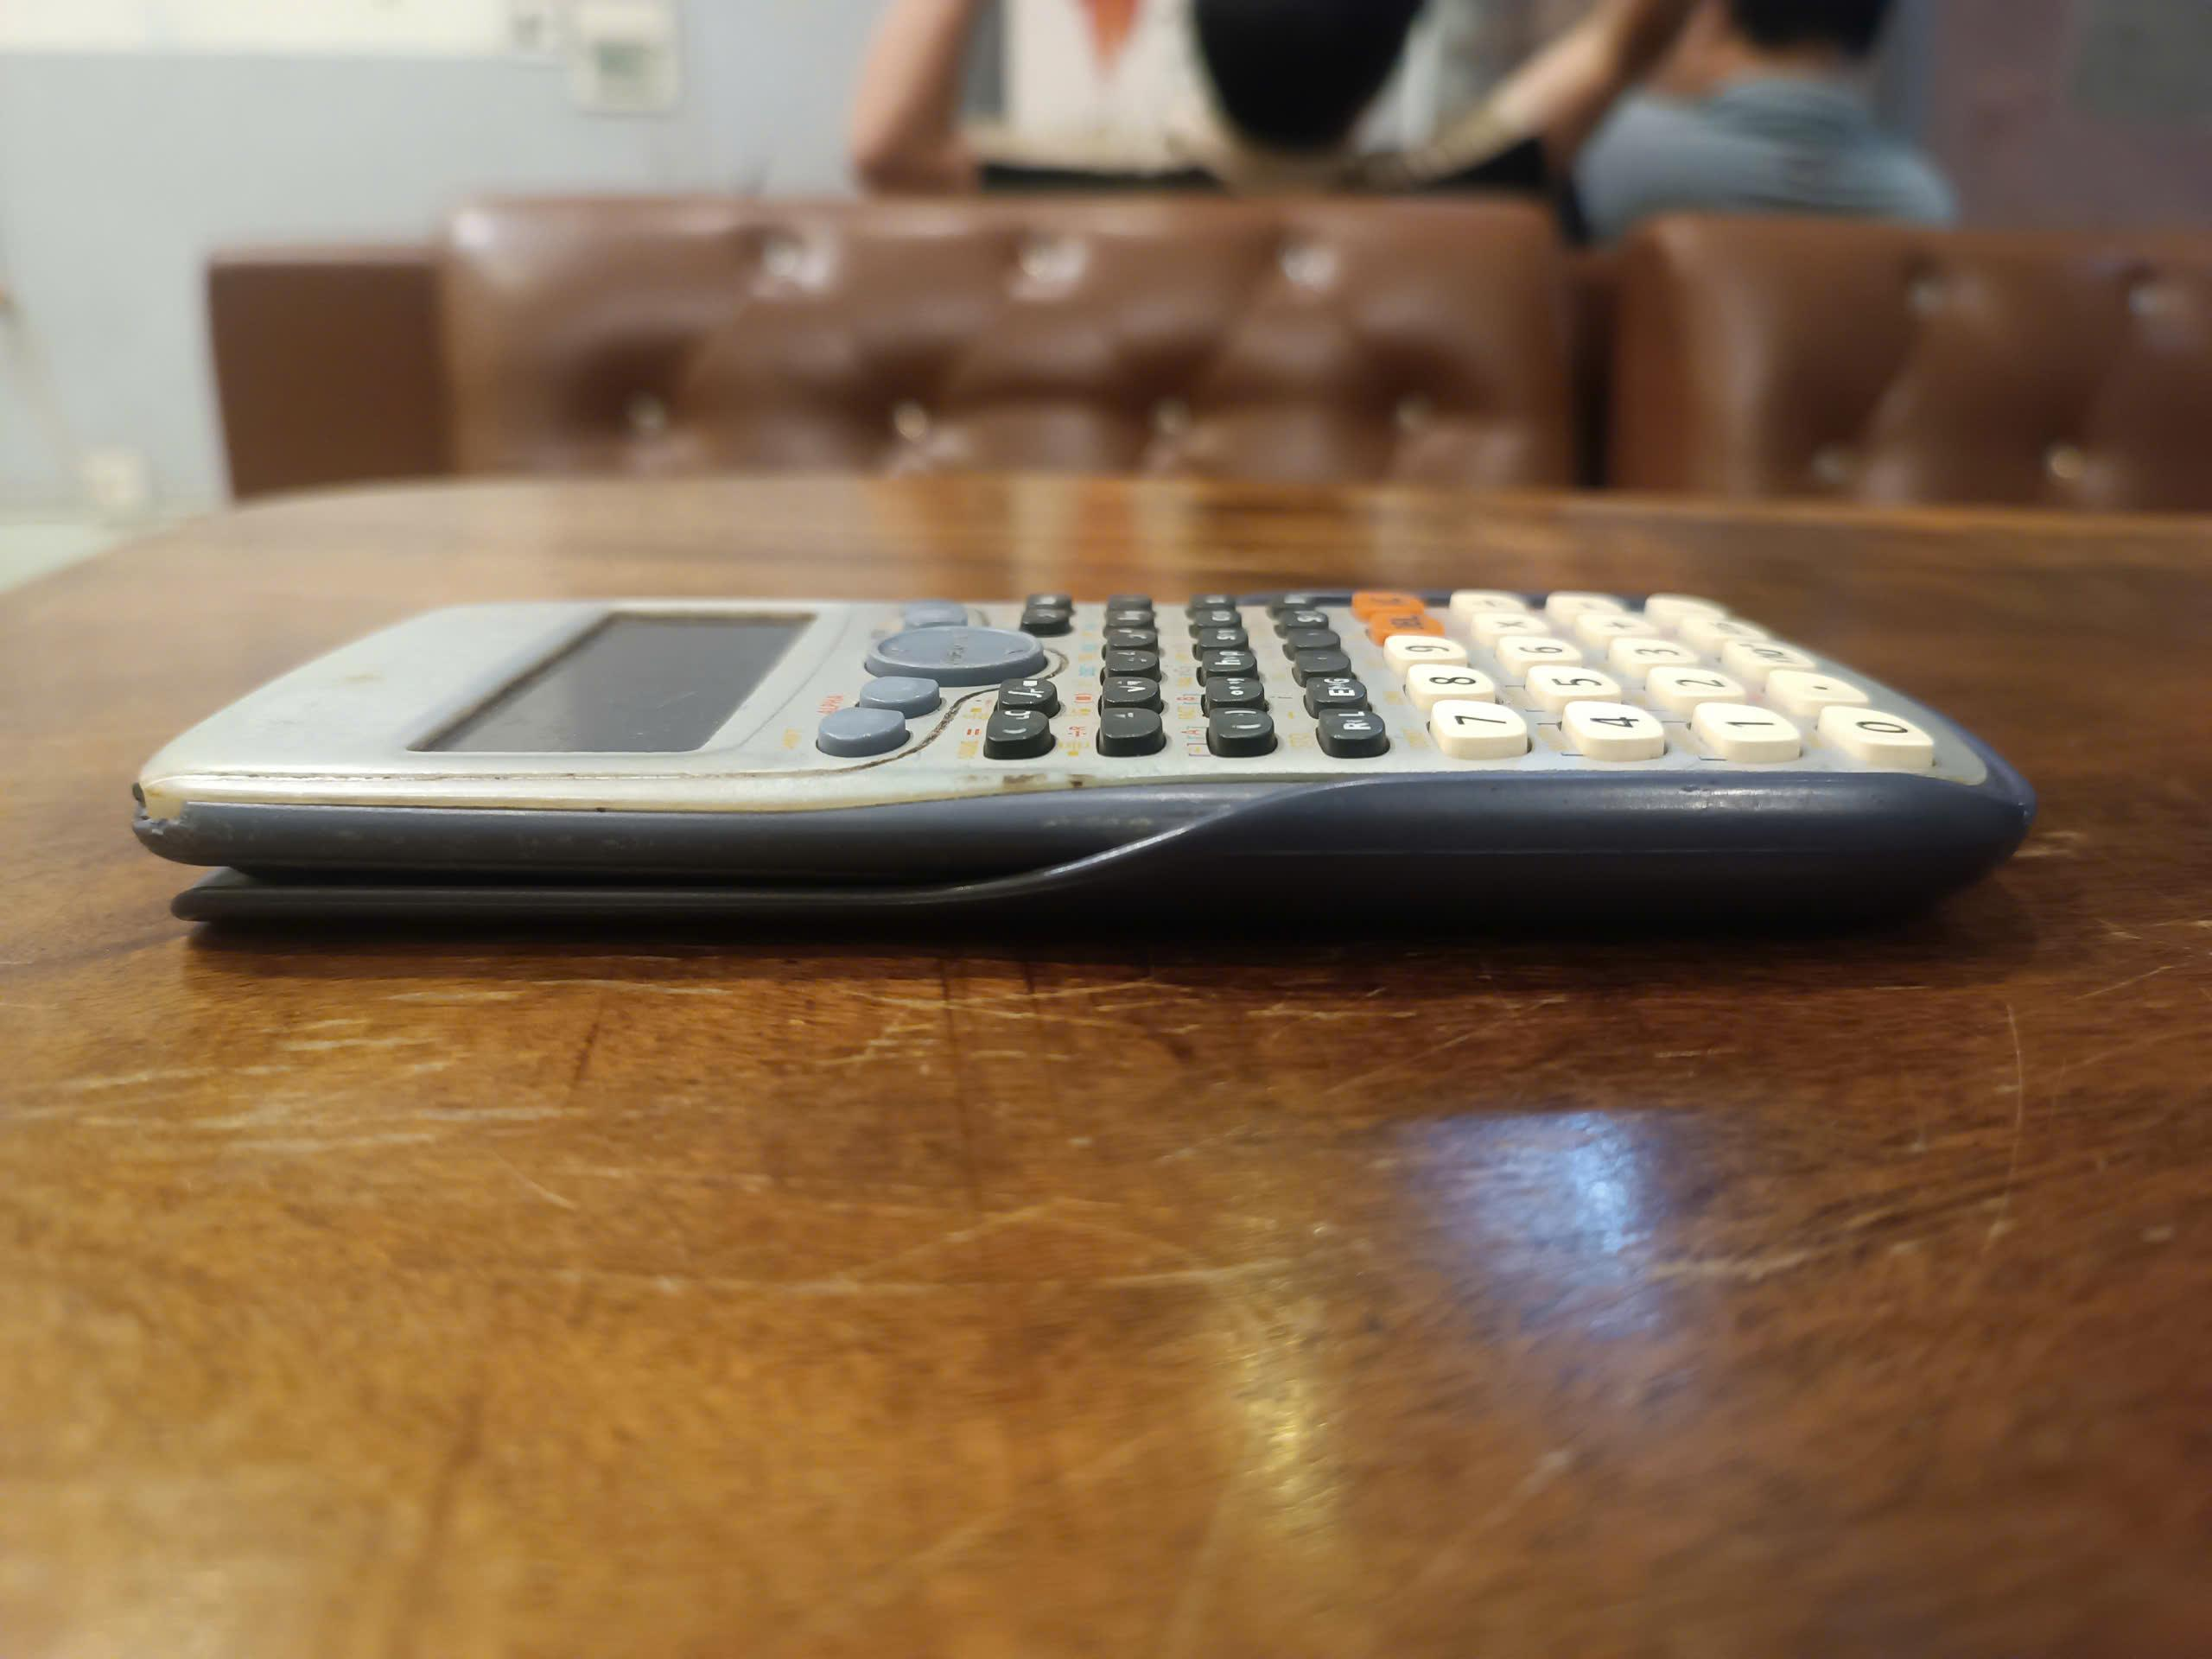Con lai: (132, 582, 2034, 936)
